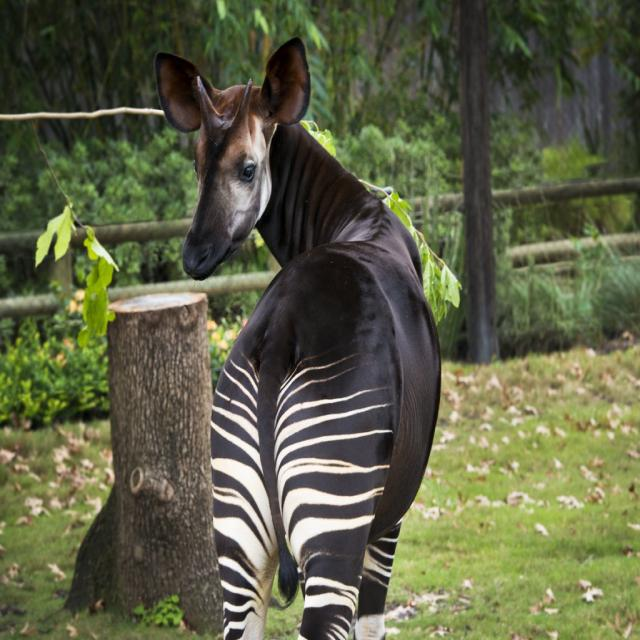Okapi: (154, 29, 448, 638)
